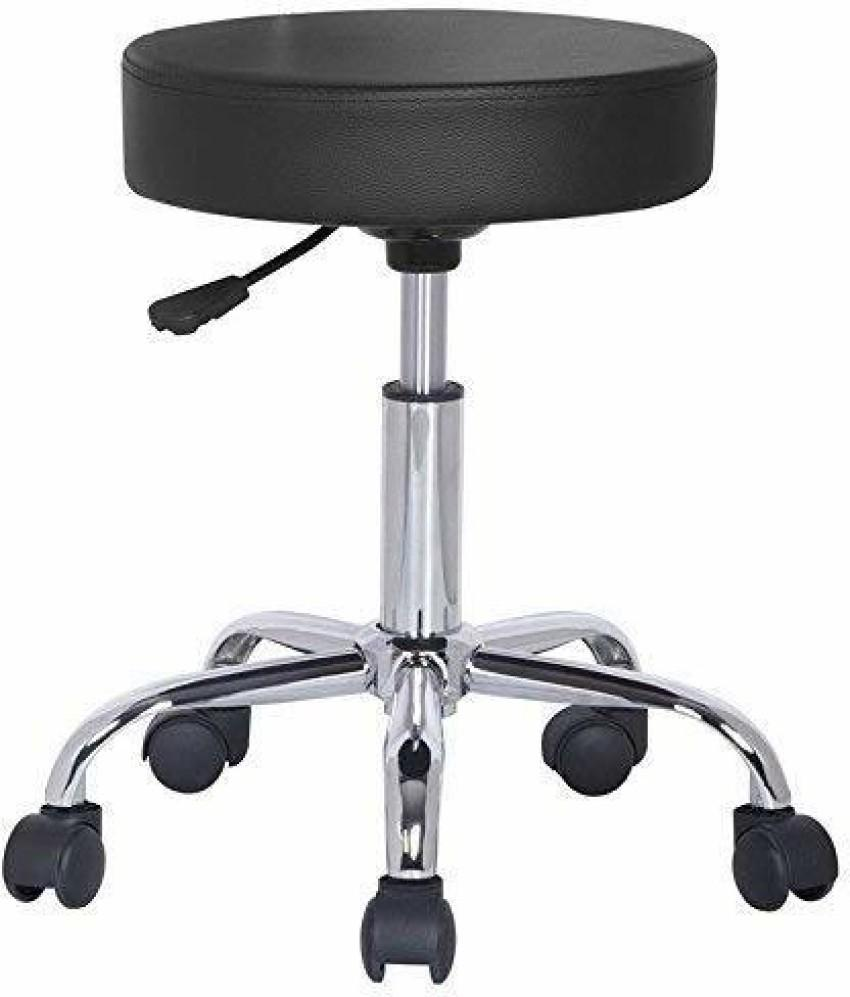stool: (1, 7, 837, 984)
